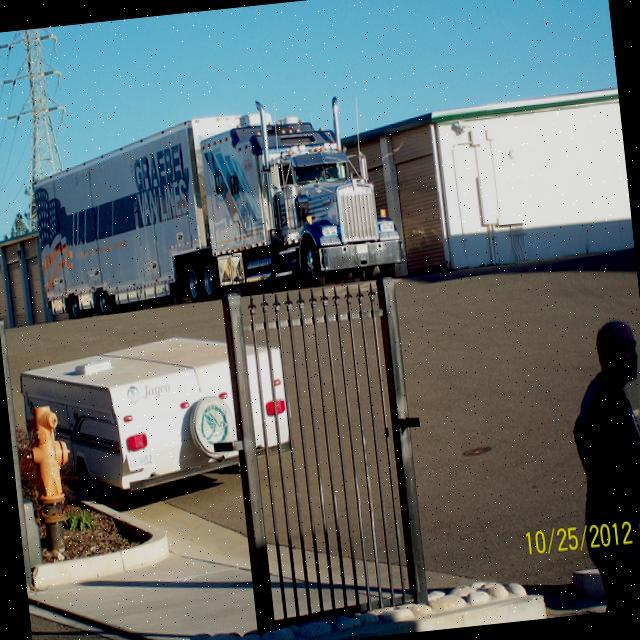fire_hydrant: (19, 401, 81, 558)
